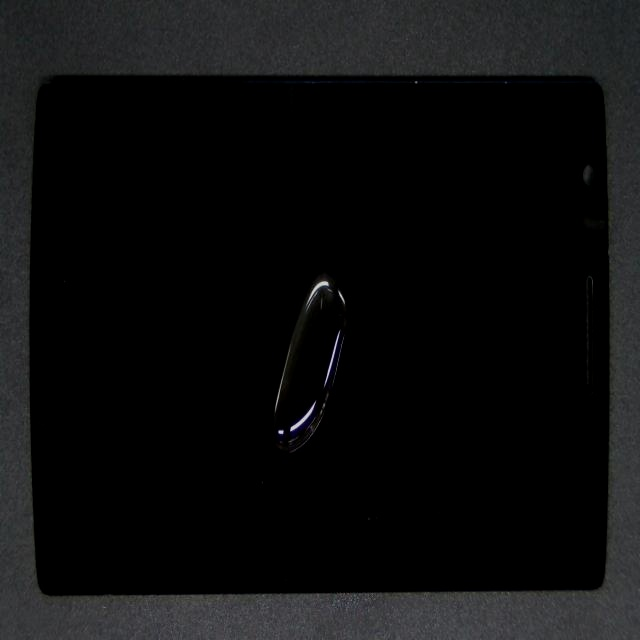oil: (194, 167, 513, 438)
